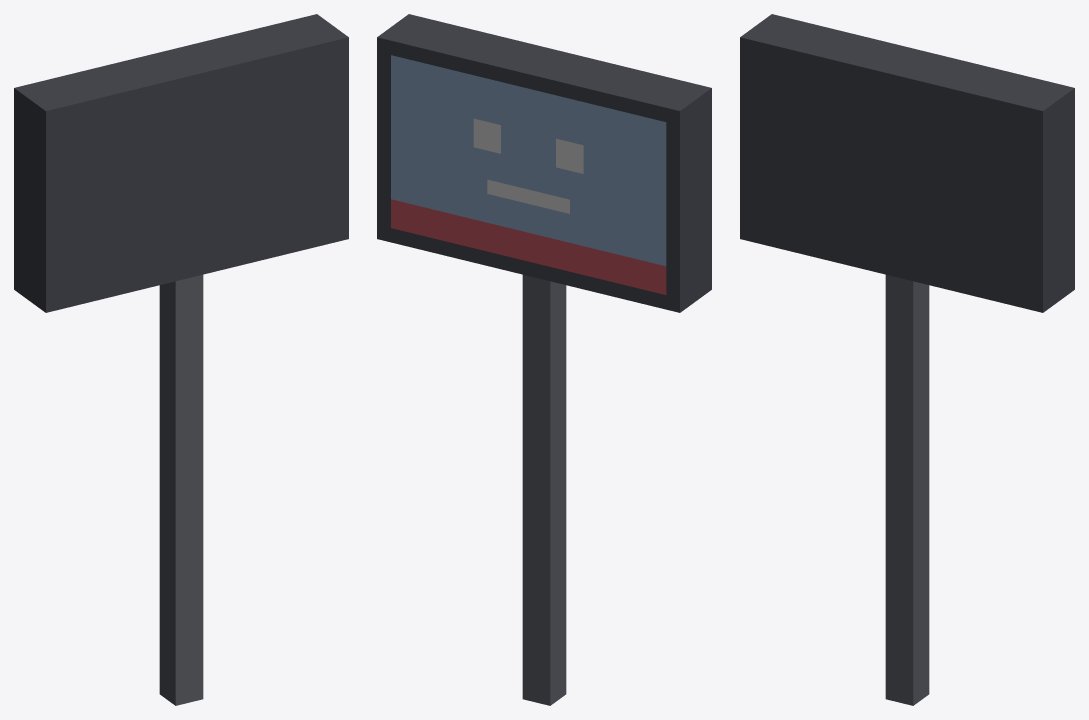
Rendered from ecran_propagande.glb.
3 renders of one model, left to right at view 1: azimuth 30°, elevation 25°; view 2: azimuth 150°, elevation 25°; view 3: azimuth 330°, elevation 25°, orthographic.
Parts seen in each view (by area): view 1: main; view 2: main; view 3: main.
Part boxes in pixels (bbox=[...]): main: bbox=[14, 14, 348, 705]; main: bbox=[377, 14, 711, 705]; main: bbox=[740, 14, 1074, 705].
Bounding box in the file's own units: 1.38 × 2.75 × 0.25.
